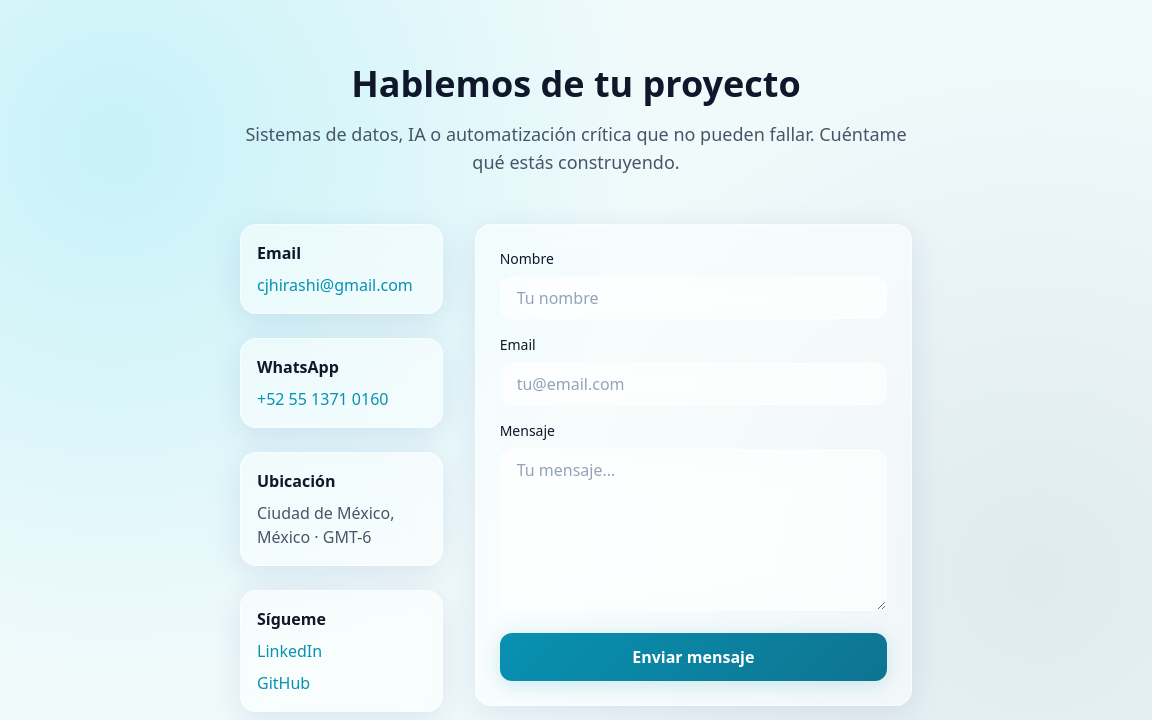
Test case: ContactPage › displays a success message after form submission
Type "John Doe" into the field labelled "Nombre" at (693, 298), box x1=500 y1=277 x2=887 y2=319
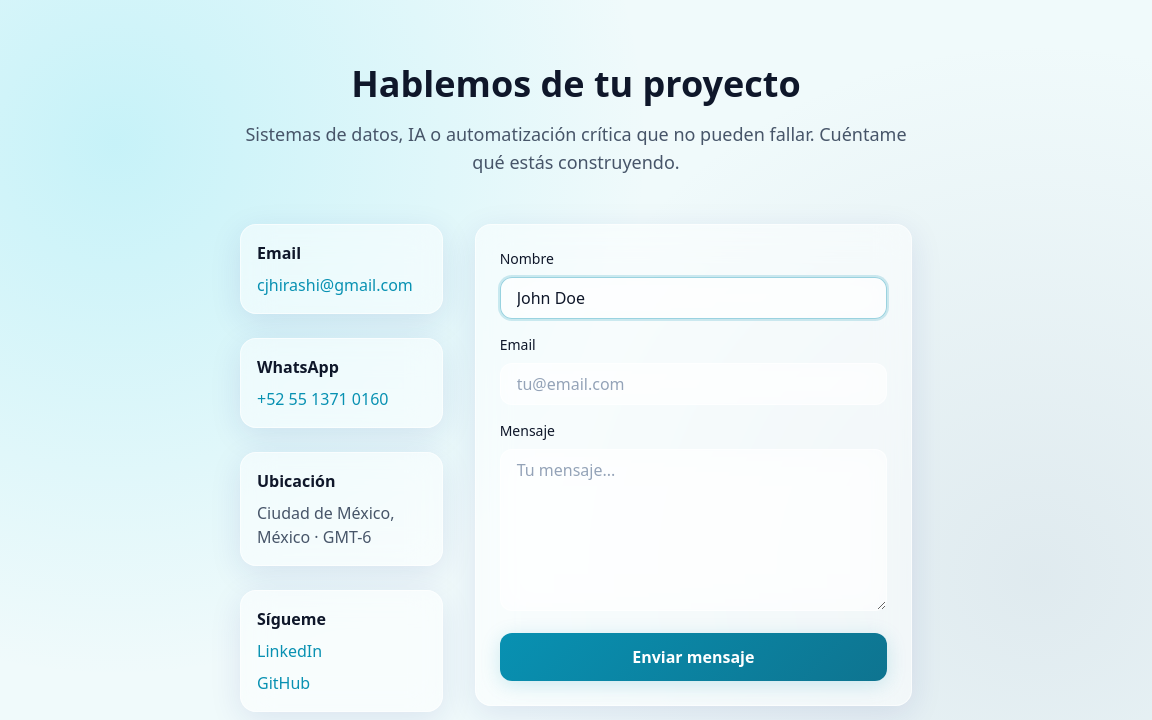
Type "john@example.com" into the field labelled "Email" at (693, 384), box x1=500 y1=363 x2=887 y2=405
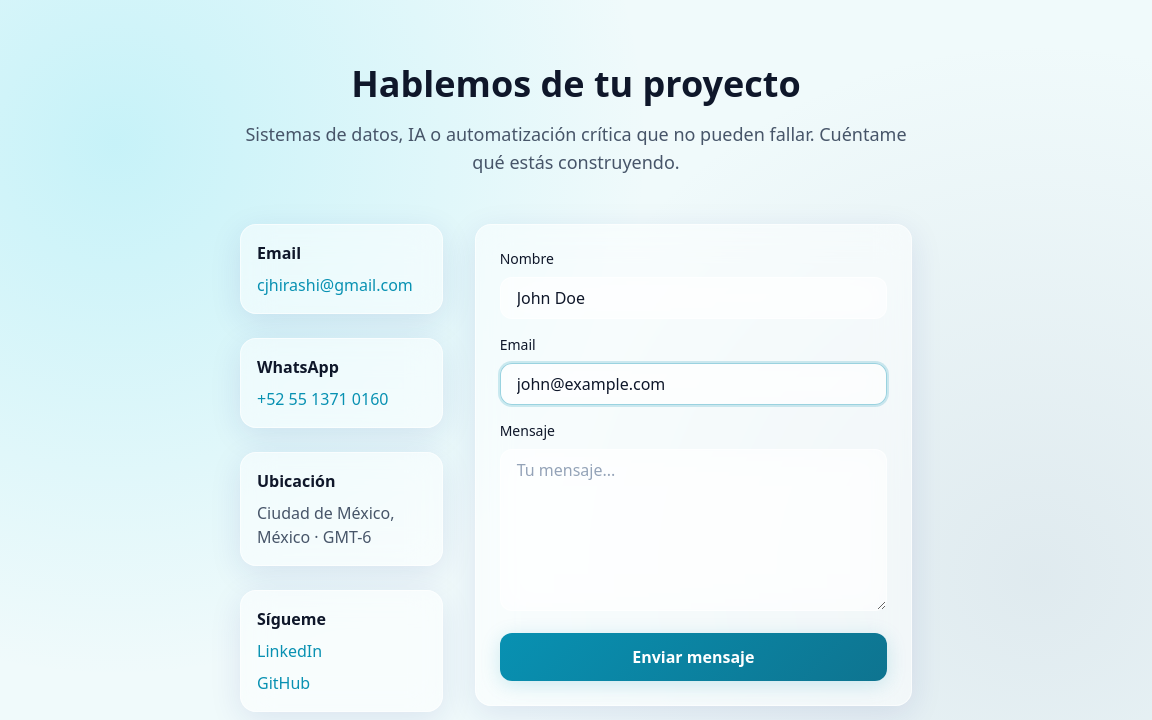
Type "I would like to discuss a project opportunity." into the text box labelled "Mensaje" at (693, 530), box x1=500 y1=449 x2=887 y2=611
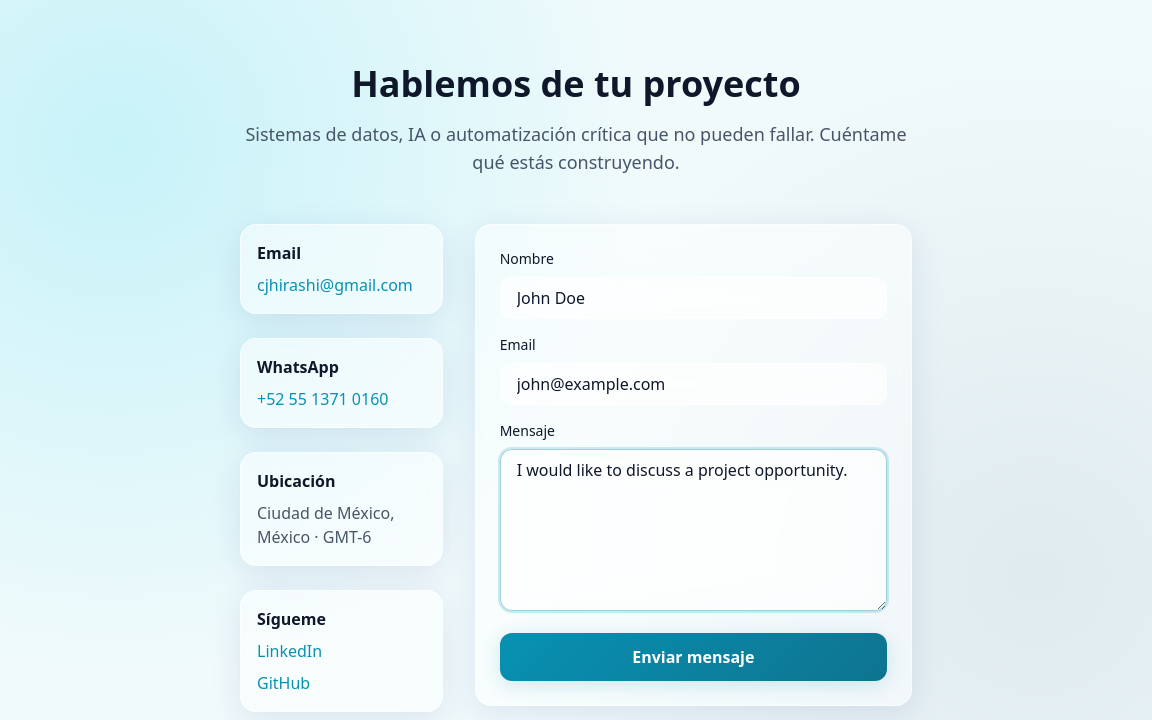
Click the button "Enviar mensaje" at (693, 657), box x1=500 y1=633 x2=887 y2=681
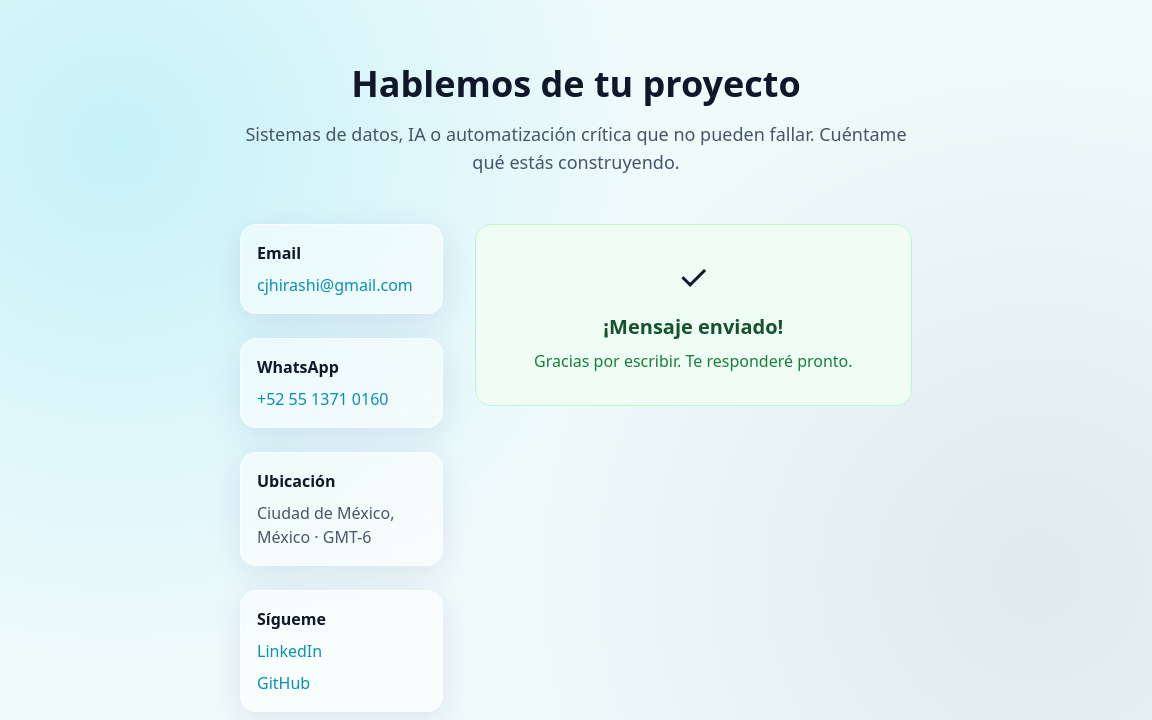
Expected: the heading "¡Mensaje enviado!" is shown, x1=603 y1=313 x2=783 y2=340
